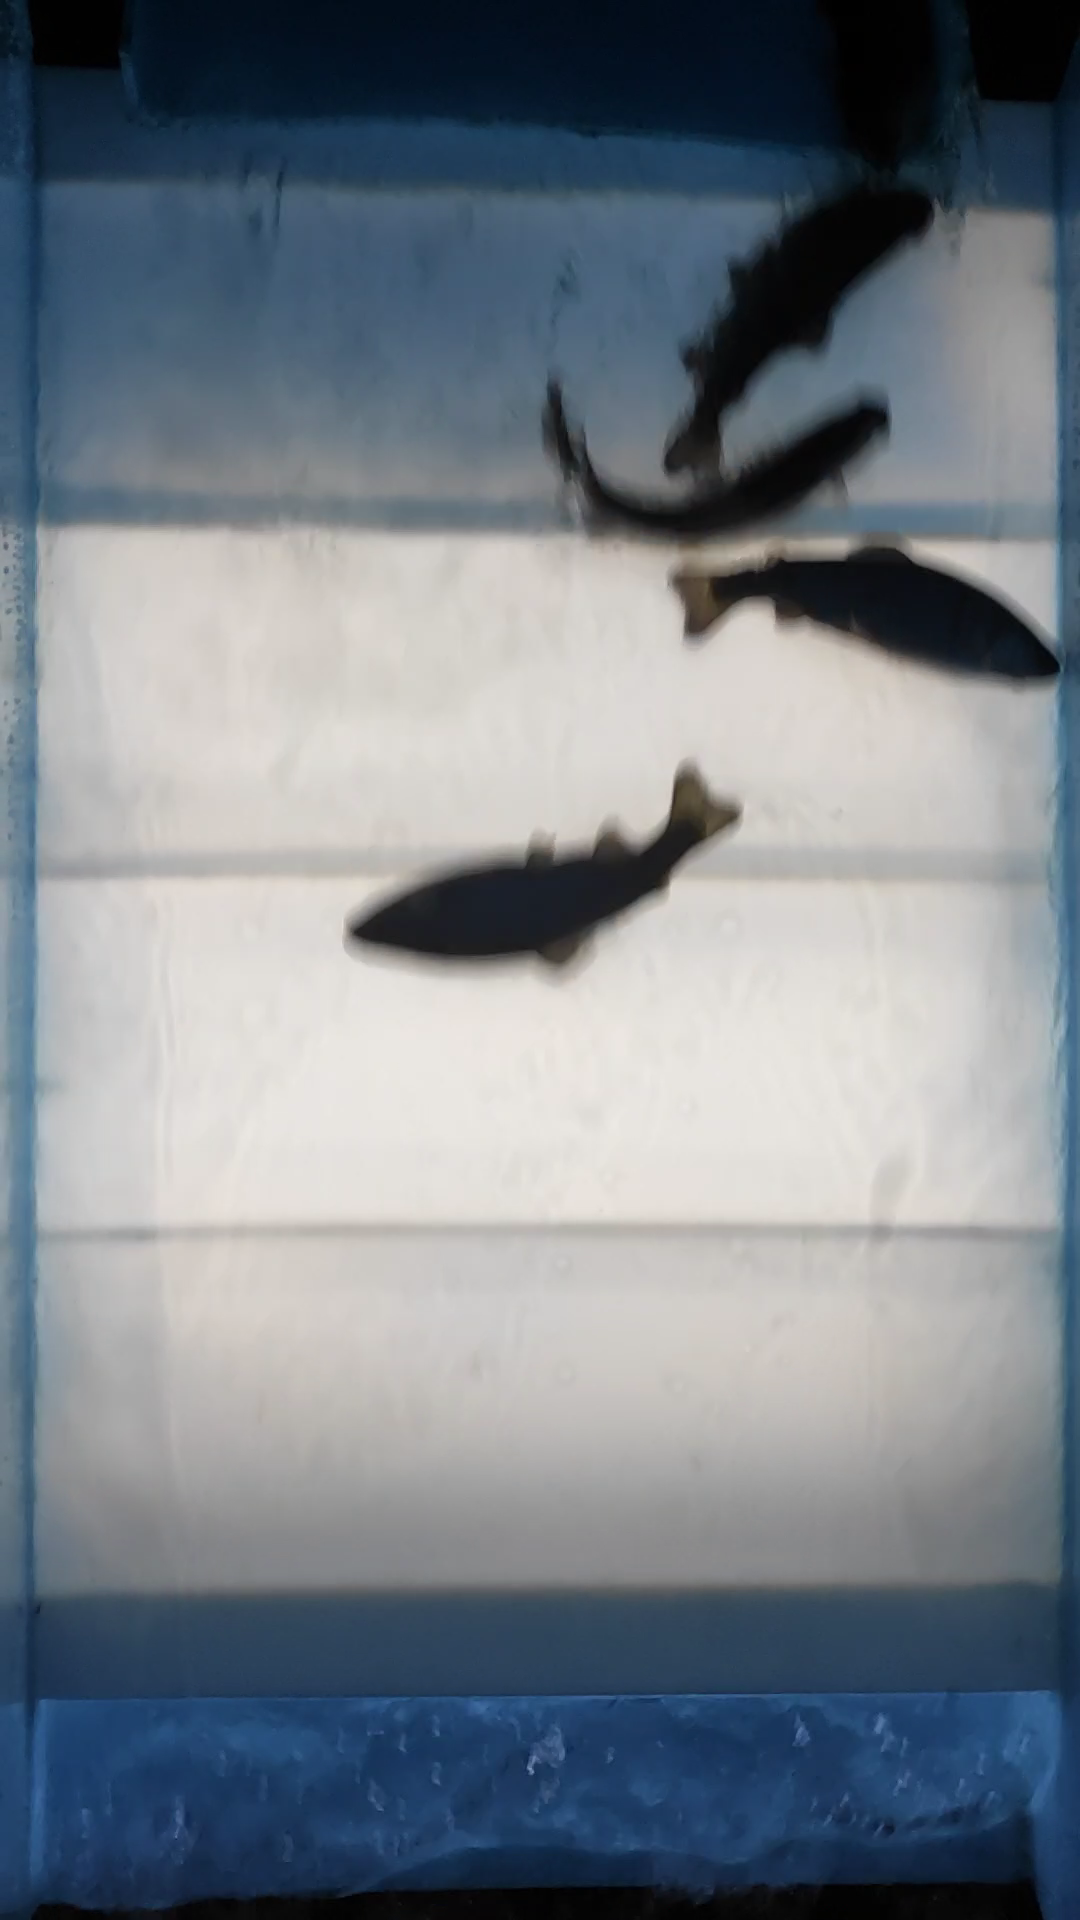fish: (345, 741, 745, 974), (648, 186, 957, 486), (539, 383, 895, 562), (660, 530, 1063, 686)
